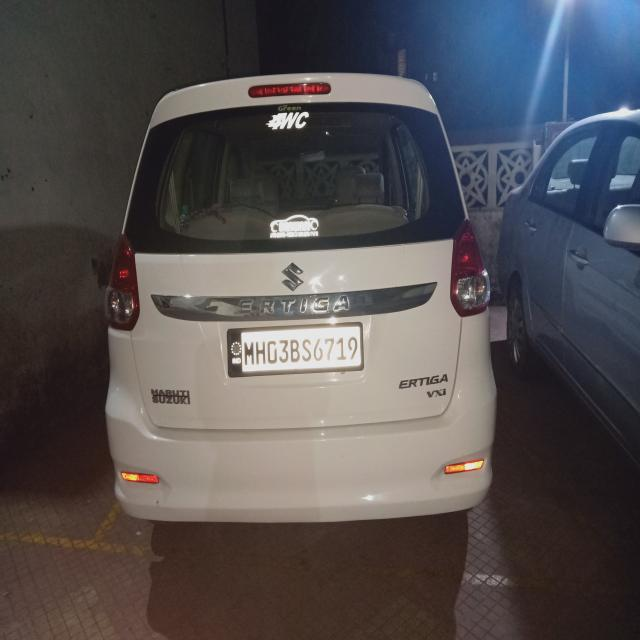Number-Plate: (231, 324, 364, 374)
